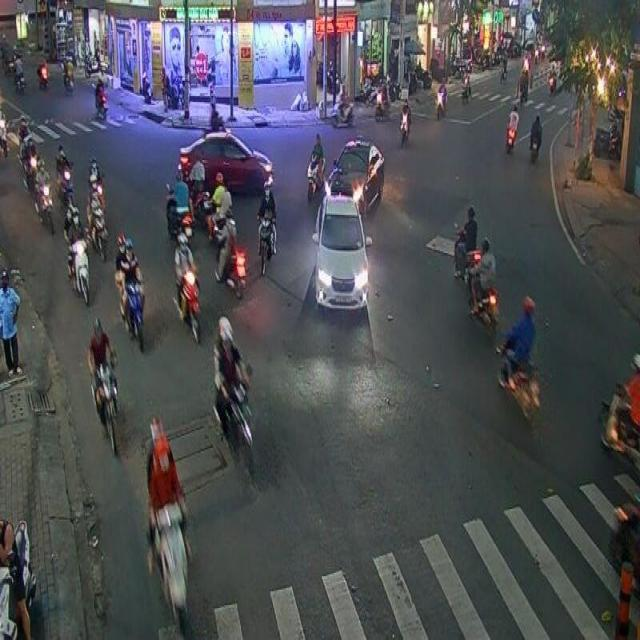car: (312, 195, 374, 309), (178, 132, 272, 190), (328, 139, 384, 207)
motorcycle: (87, 317, 117, 457), (115, 233, 145, 352), (173, 230, 201, 344), (213, 206, 244, 302), (468, 239, 498, 331), (64, 204, 90, 305), (255, 182, 277, 274), (166, 171, 193, 239), (87, 175, 108, 261), (34, 160, 54, 232), (306, 133, 326, 200)
